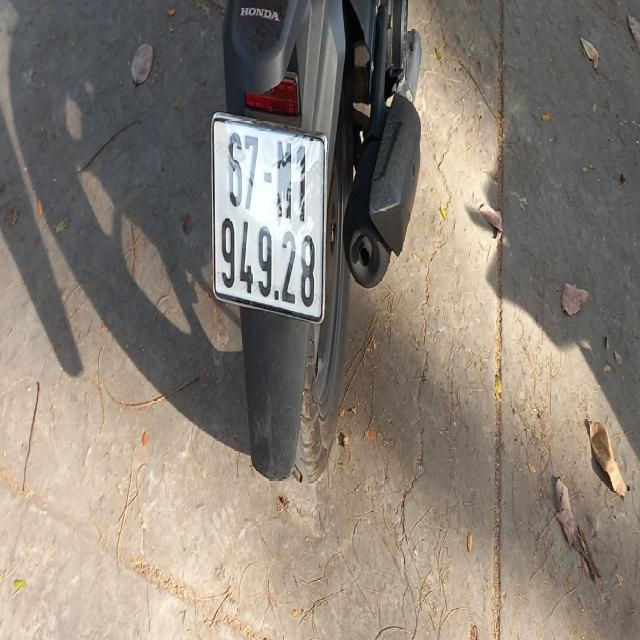1: (294, 140, 306, 223)
2: (280, 227, 296, 304)
4: (240, 220, 253, 296)
6: (228, 133, 244, 209)
7: (245, 133, 258, 211)
8: (300, 230, 315, 306)
9: (220, 215, 236, 287), (259, 225, 274, 298)
M: (276, 140, 291, 218)
